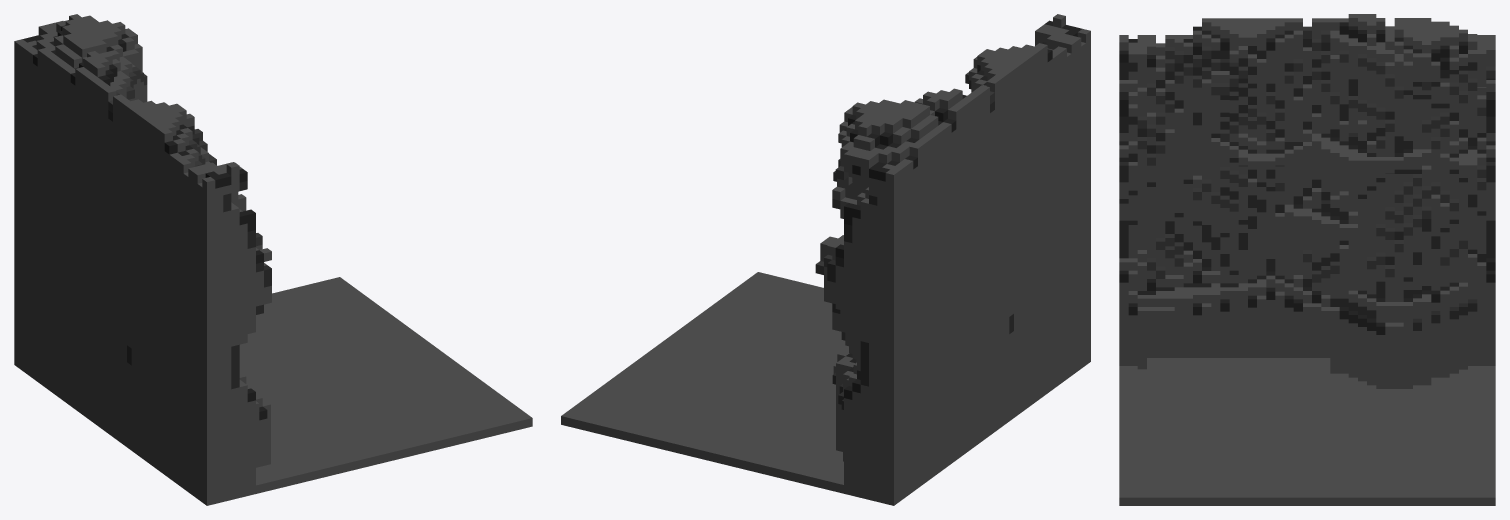
Rendered from LavaPool-4.obj.
The picture shows the model from 3 angles, left to right: view 1: azimuth 30°, elevation 25°; view 2: azimuth 150°, elevation 25°; view 3: azimuth 270°, elevation 25°; orthographic projection. The views are drawn at different scales.
Bounding box in the file's own units: 4 × 4.1 × 4.1.
